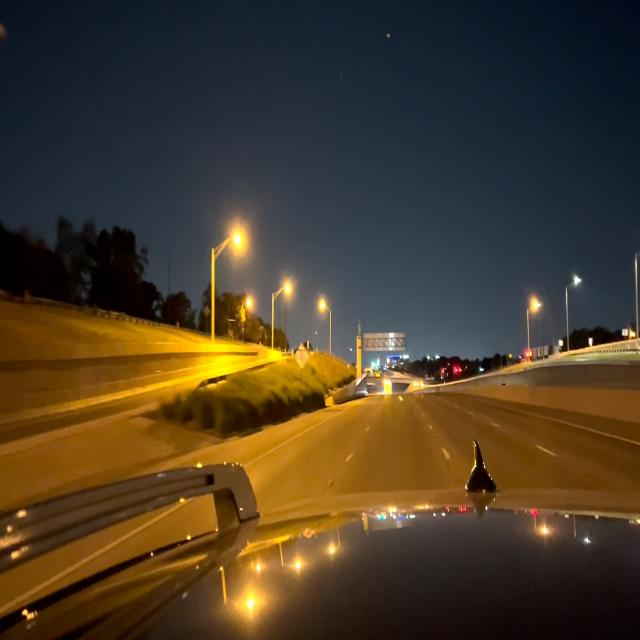back-of-sign: (364, 333, 405, 350), (294, 343, 309, 369)
